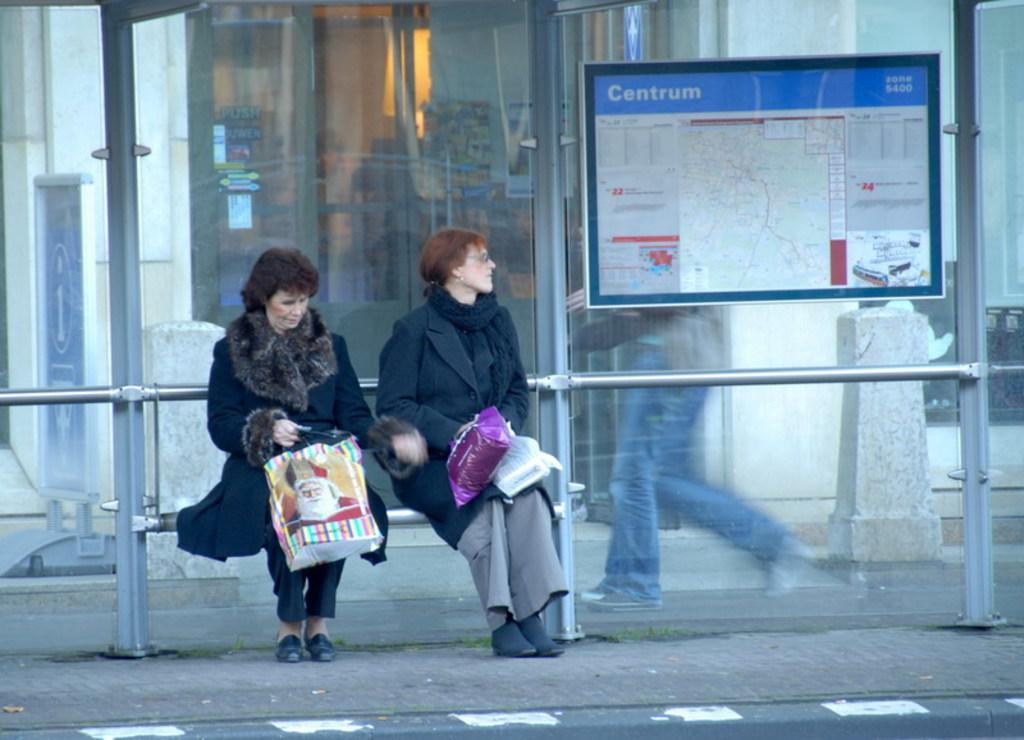Luggage-and-bags: (262, 424, 383, 571), (443, 405, 515, 511), (493, 431, 559, 494)
